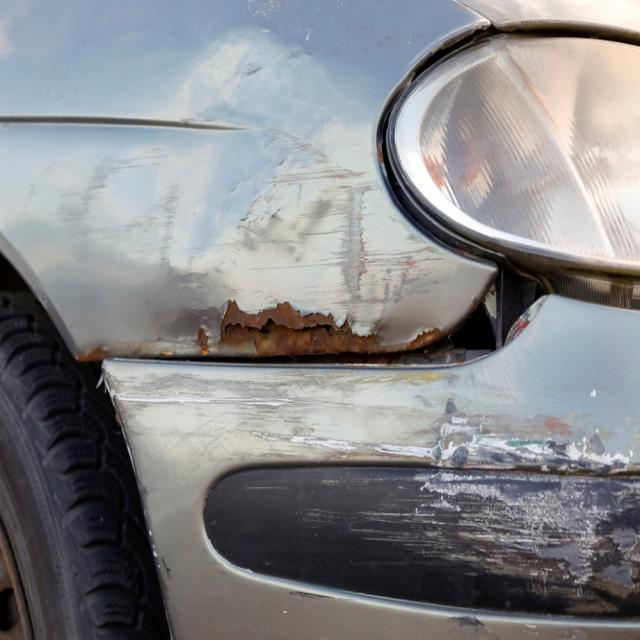crack: (222, 316, 330, 336)
dent: (164, 37, 359, 315)
scratch: (102, 356, 640, 640), (26, 139, 186, 272), (350, 169, 454, 328)
